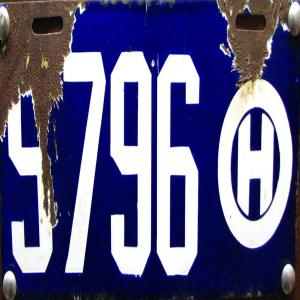Vehicle-registration-plate: (1, 1, 300, 297)
